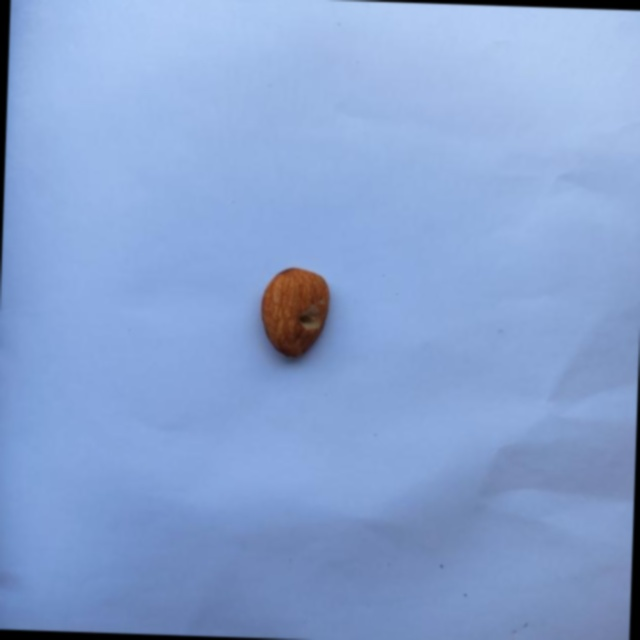grade3: (258, 263, 336, 364)
